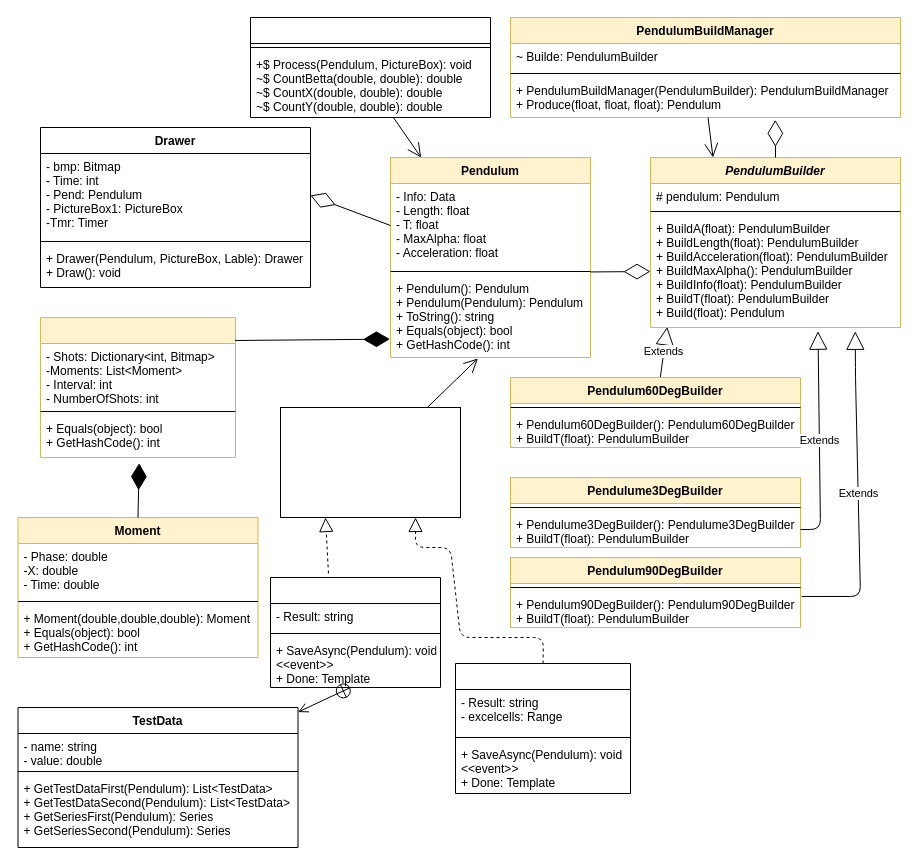
The diagram is 918 pixels wide and 868 high, and some of its shapes have lost their labels. The shapes that lost their labels are listed below. From the top down, each one's box as (x1, y1, x2, y2) in pixels, then its label:
(250, 16, 490, 118): $Processor
(40, 316, 236, 458): Data
(280, 406, 460, 518): <<Interface>> ISaver + SaveAsync(Pendulum): void <<event>> + Done: Template
(270, 576, 440, 688): WordSaver
(454, 662, 630, 794): ExcelSaver
